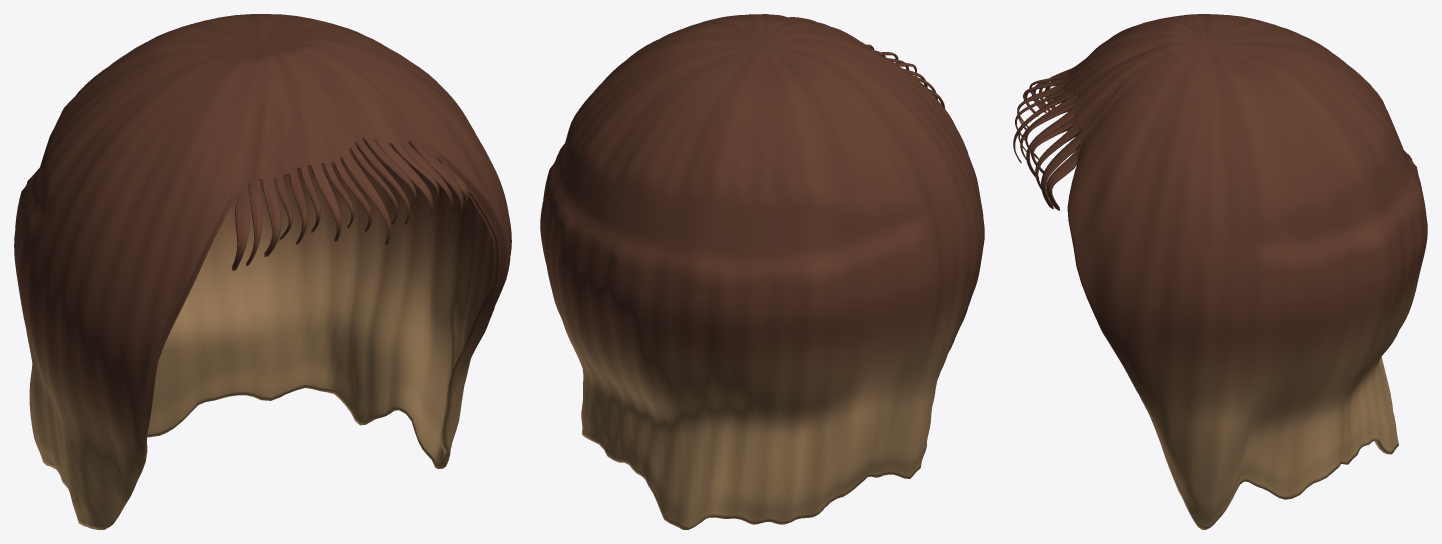
Rendered from side-sweep-bucket-ombre.glb.
The picture shows the model from 3 angles, left to right: view 1: azimuth 30°, elevation 25°; view 2: azimuth 150°, elevation 25°; view 3: azimuth 270°, elevation 25°; orthographic projection. The views are drawn at different scales.
Visible parts, largest first — view 1: Wispy bangs / continuous crown; view 2: Wispy bangs / continuous crown; view 3: Wispy bangs / continuous crown.
Part boxes in pixels (x1,y1,x2,y2): Wispy bangs / continuous crown: (14,14,511,529); Wispy bangs / continuous crown: (540,14,984,529); Wispy bangs / continuous crown: (1013,14,1427,529).
Size of the model in its own units: 0.8388 by 0.8732 by 0.7867.
